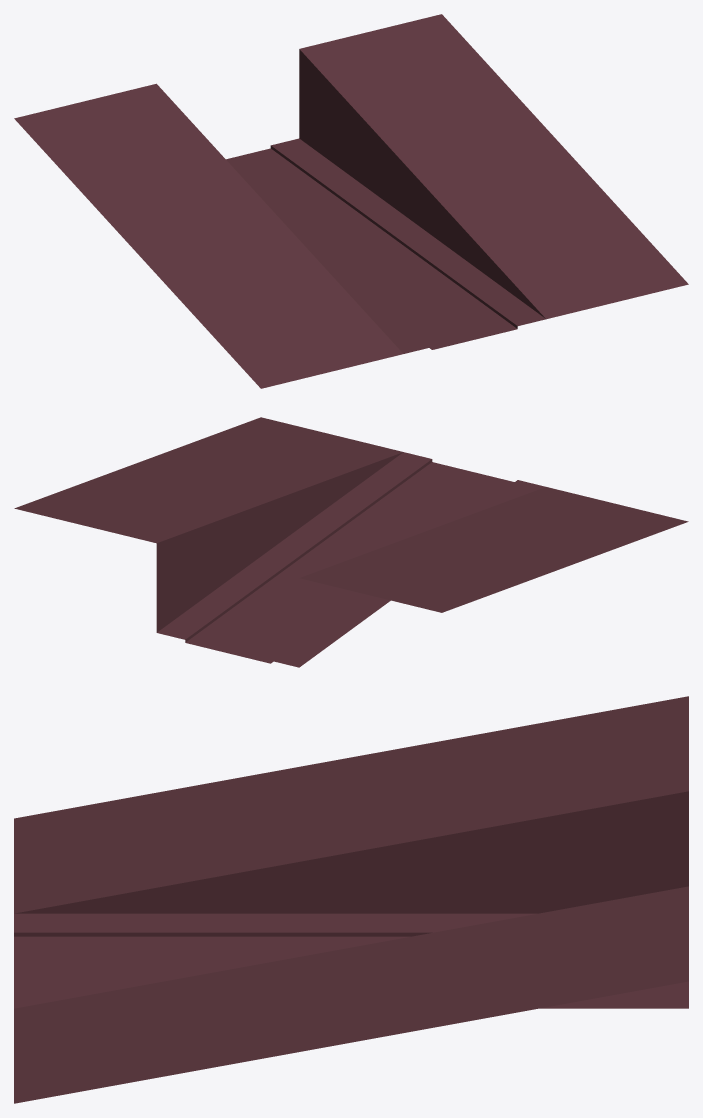
The model's file is tiles-nb-tile-road-tunnel-entrance-nb.glb.
3 renders of one model, top to bottom at view 1: azimuth 30°, elevation 25°; view 2: azimuth 150°, elevation 25°; view 3: azimuth 270°, elevation 25°, orthographic. The views are drawn at different scales.
Parts seen in each view (by area): view 1: tile-road-tunnel-entrance-nb; view 2: tile-road-tunnel-entrance-nb; view 3: tile-road-tunnel-entrance-nb.
Part boxes in pixels (x1,y1,x2,y2): tile-road-tunnel-entrance-nb: (14, 14, 688, 388); tile-road-tunnel-entrance-nb: (14, 417, 688, 667); tile-road-tunnel-entrance-nb: (14, 696, 688, 1103).
Bounding box in the file's own units: 30 × 6.2 × 30.
